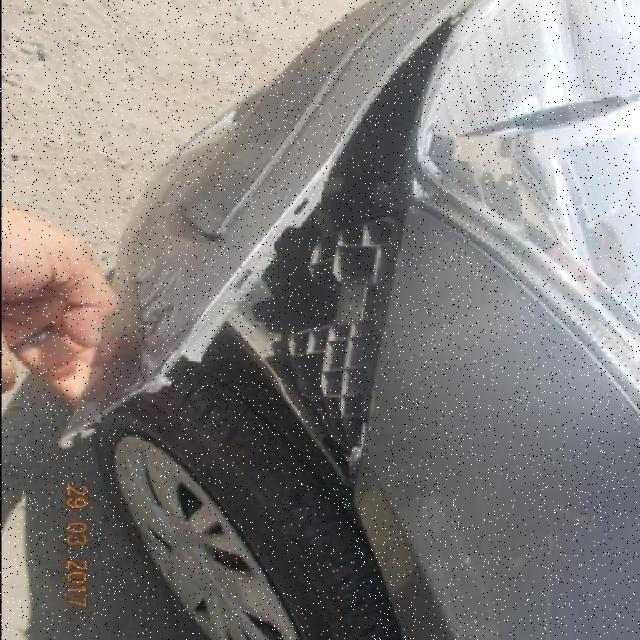damage: (65, 6, 463, 501)
